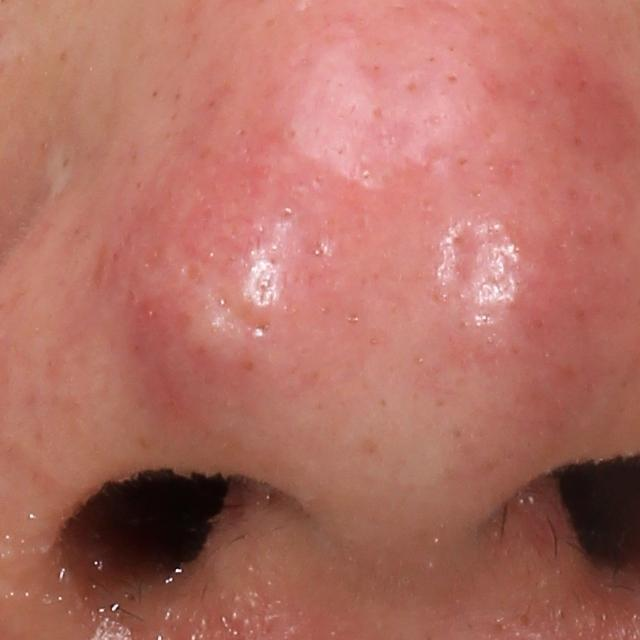atrophic_scar: (179, 255, 280, 347), (448, 216, 497, 297)
